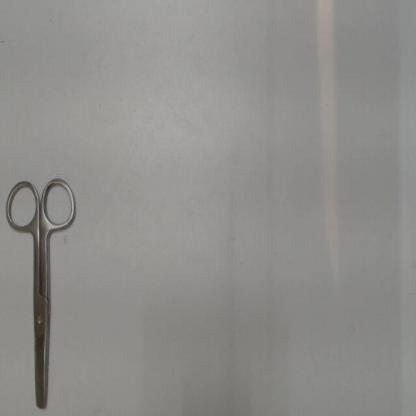Dressing Scissors: (1, 170, 82, 413)
